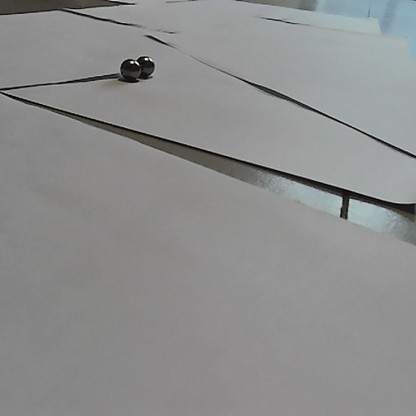ironball: (118, 56, 143, 83), (135, 55, 155, 76)
